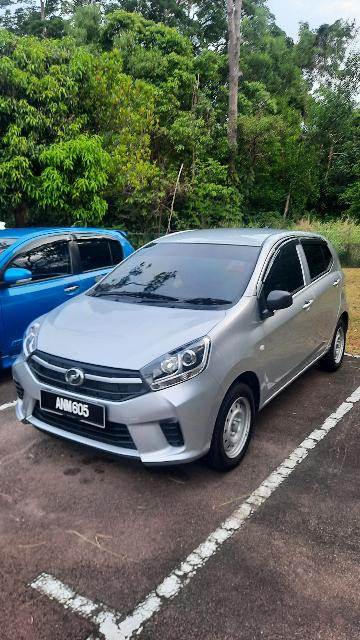License_Plate: (39, 385, 109, 435)
car: (24, 220, 360, 476), (1, 210, 145, 382)
